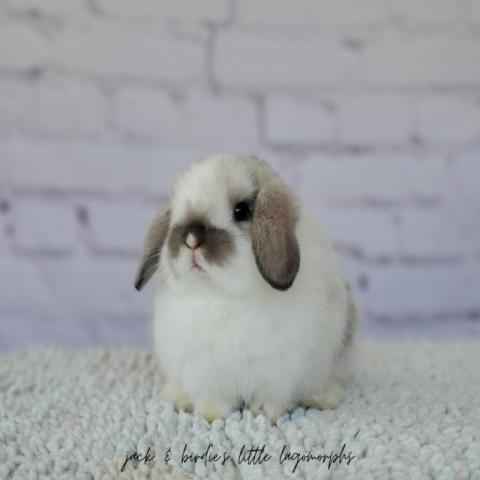small_animal: (131, 150, 359, 424)
